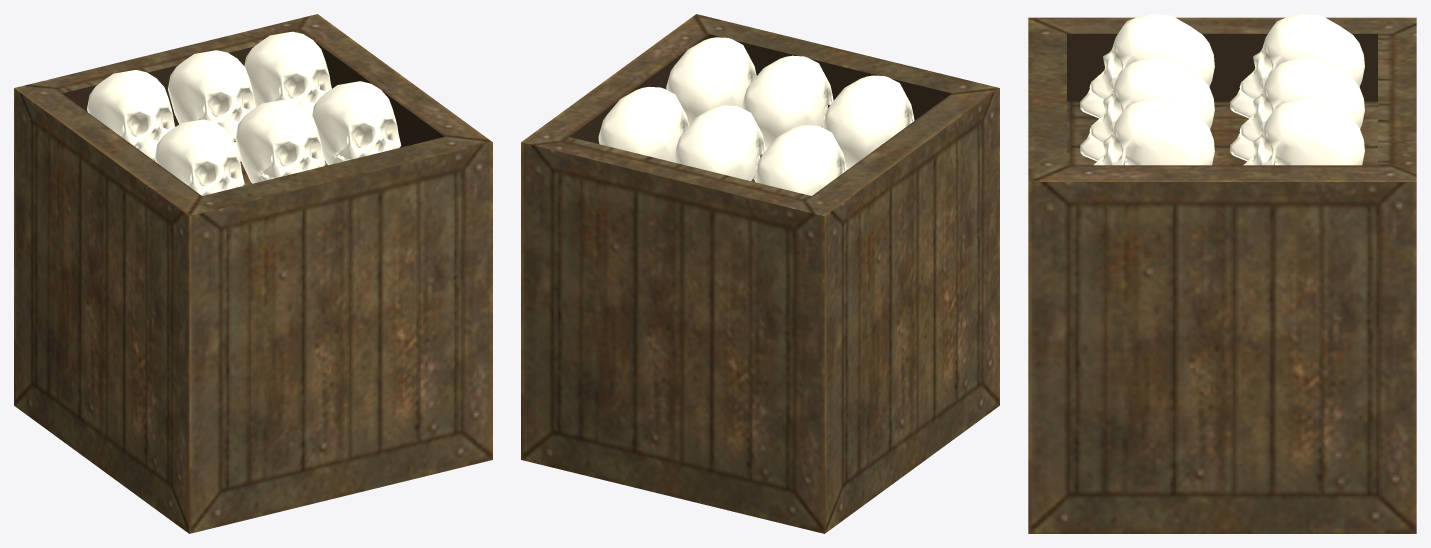
The model's file is CrateSkulls01.glb.
3 renders of one model, left to right at view 1: azimuth 30°, elevation 25°; view 2: azimuth 150°, elevation 25°; view 3: azimuth 270°, elevation 25°, orthographic. The views are drawn at different scales.
Visible parts, largest first — view 1: CrateSkulls01; view 2: CrateSkulls01; view 3: CrateSkulls01.
Boxes of the visible parts, box(x1,y1,x2,y2) form: CrateSkulls01: box(14, 14, 492, 533); CrateSkulls01: box(521, 14, 999, 533); CrateSkulls01: box(1028, 14, 1416, 533).
Size of what is drawn, in the model's own units: 0.9043 by 1 by 0.9043.
Materials: 1 (1 with a texture image).
